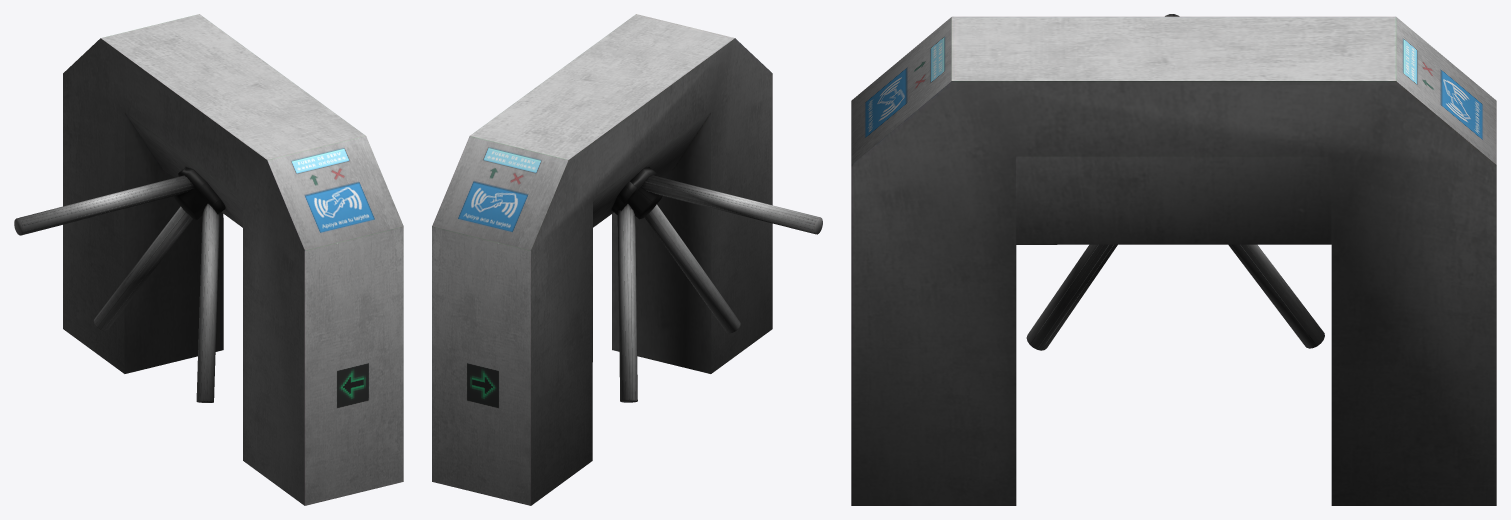
File: molinete.fbx
3 views of the same model, side by side, from view 1: azimuth 30°, elevation 25°; view 2: azimuth 150°, elevation 25°; view 3: azimuth 270°, elevation 25° (orthographic). The views are drawn at different scales.
Visible parts, largest first — view 1: molinete; view 2: molinete; view 3: molinete.
Part boxes in pixels (box(x1,y1,x2,y2)): molinete: box(14, 14, 403, 505); molinete: box(432, 14, 822, 505); molinete: box(851, 14, 1496, 505).
Size of the model in its own units: 3161 by 3630 by 4996.
